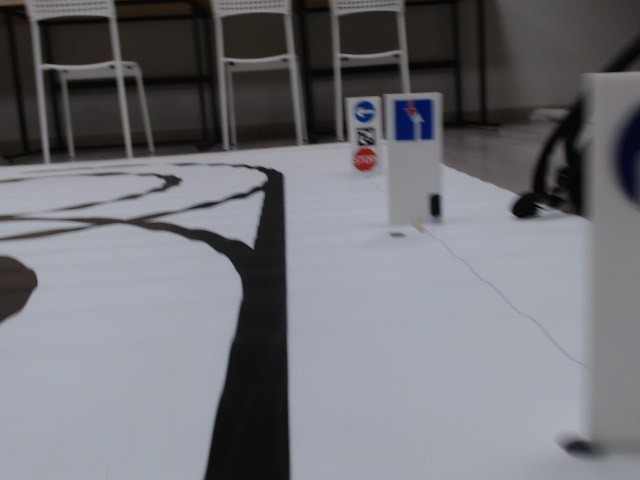Stop: (353, 148, 377, 171)
priority_movement: (392, 96, 439, 143)
